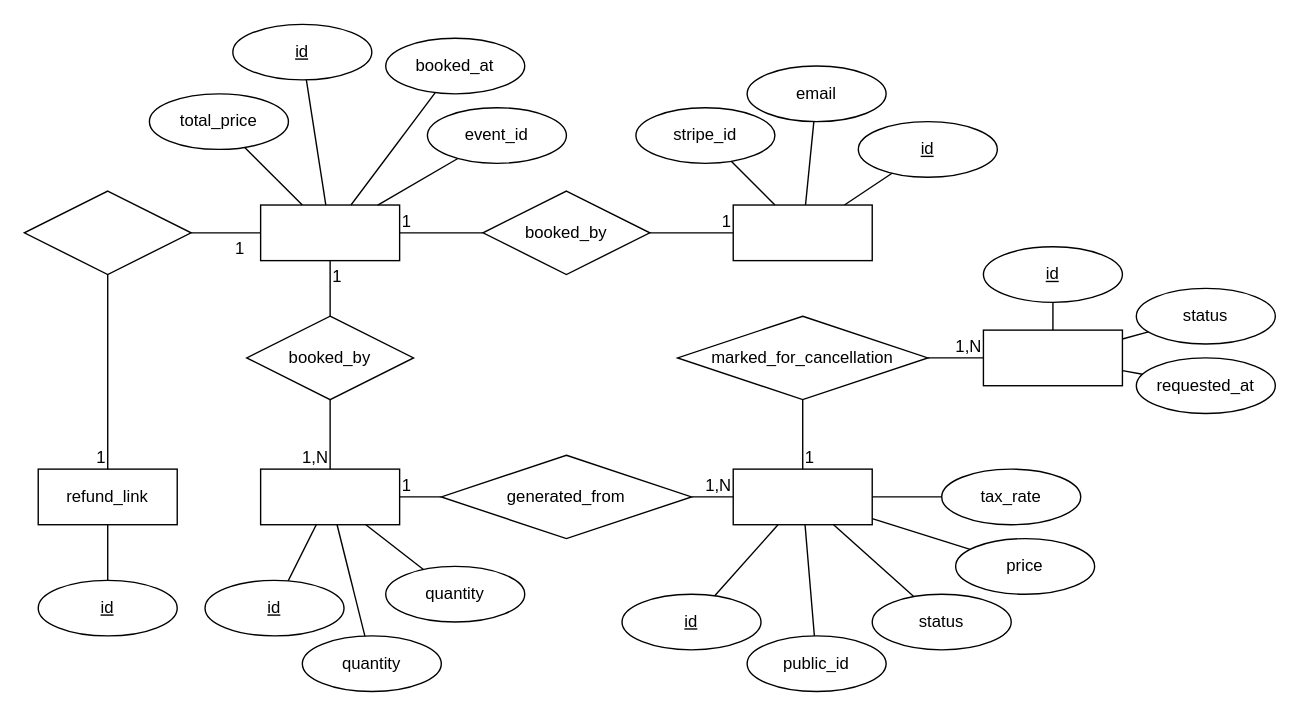
This 1300x716 diagram has some shape labels left out. The centre of each missing label's shape, as x and y in pixels:
"booking" goes at (329,232).
"booking_item" goes at (329,496).
"cancellation" goes at (1052,357).
"customer" goes at (802,232).
"has" goes at (107,232).
"ticket" goes at (802,496).
